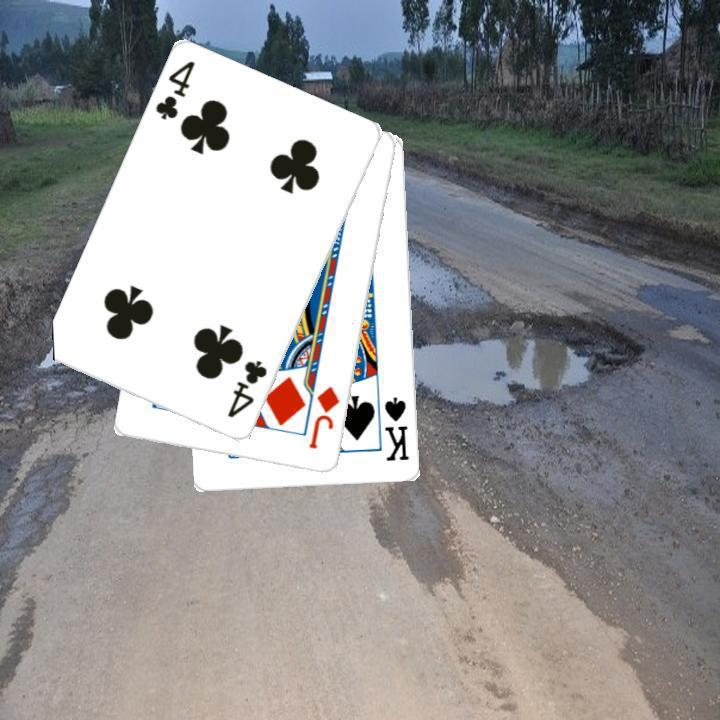4: (151, 57, 197, 123), (223, 356, 270, 420)
J: (304, 382, 342, 451)
K: (381, 392, 412, 464)
